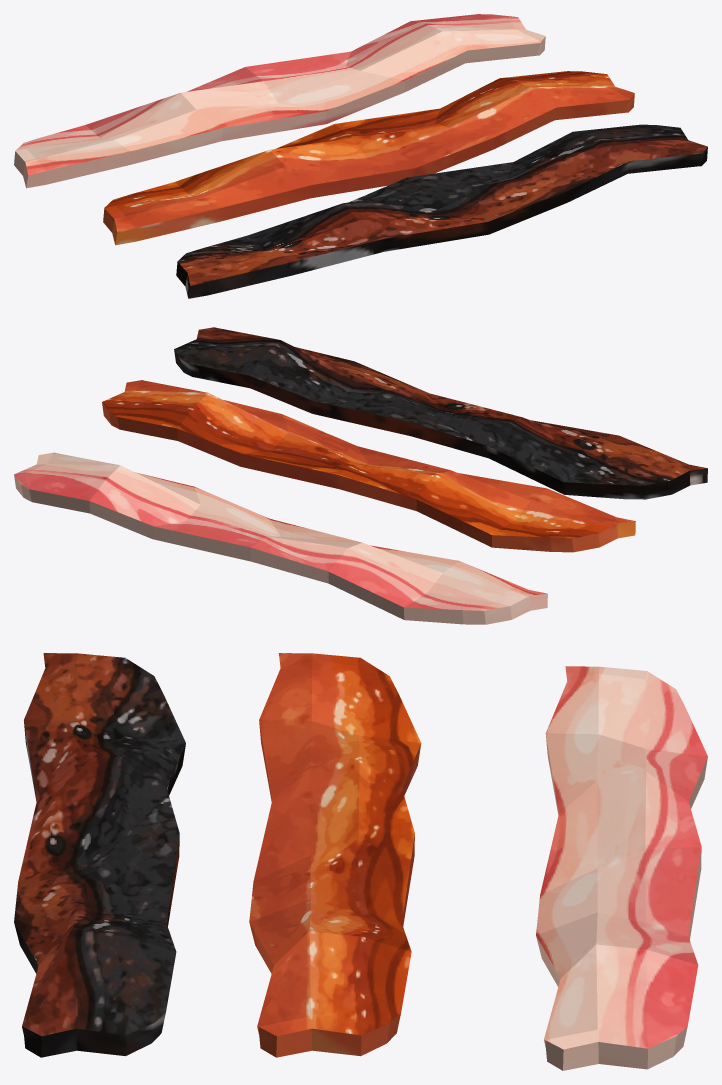
Rendered from Tocino2.fbx.
3 renders of one model, top to bottom at view 1: azimuth 30°, elevation 25°; view 2: azimuth 150°, elevation 25°; view 3: azimuth 270°, elevation 25°, orthographic. The views are drawn at different scales.
Visible parts, largest first — view 1: Mesh1, TOCINO1:Mesh, Mesh; view 2: Mesh1, TOCINO1:Mesh, Mesh; view 3: TOCINO1:Mesh, Mesh1, Mesh.
Part boxes in pixels (left/top/right/bottom): Mesh1: left=176, top=124, right=707, bottom=298; TOCINO1:Mesh: left=14, top=14, right=545, bottom=188; Mesh: left=103, top=71, right=634, bottom=245; Mesh1: left=174, top=327, right=707, bottom=499; TOCINO1:Mesh: left=14, top=452, right=547, bottom=624; Mesh: left=102, top=380, right=635, bottom=552; TOCINO1:Mesh: left=536, top=666, right=707, bottom=1070; Mesh1: left=14, top=653, right=185, bottom=1057; Mesh: left=249, top=653, right=421, bottom=1057.
Size of the model in its own units: 1.34 by 0.1541 by 0.969.
Materials: 3 (3 with a texture image).
